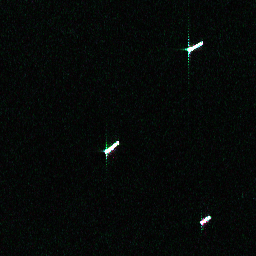ship: (102, 138, 121, 156), (185, 38, 205, 55), (197, 212, 213, 227)
